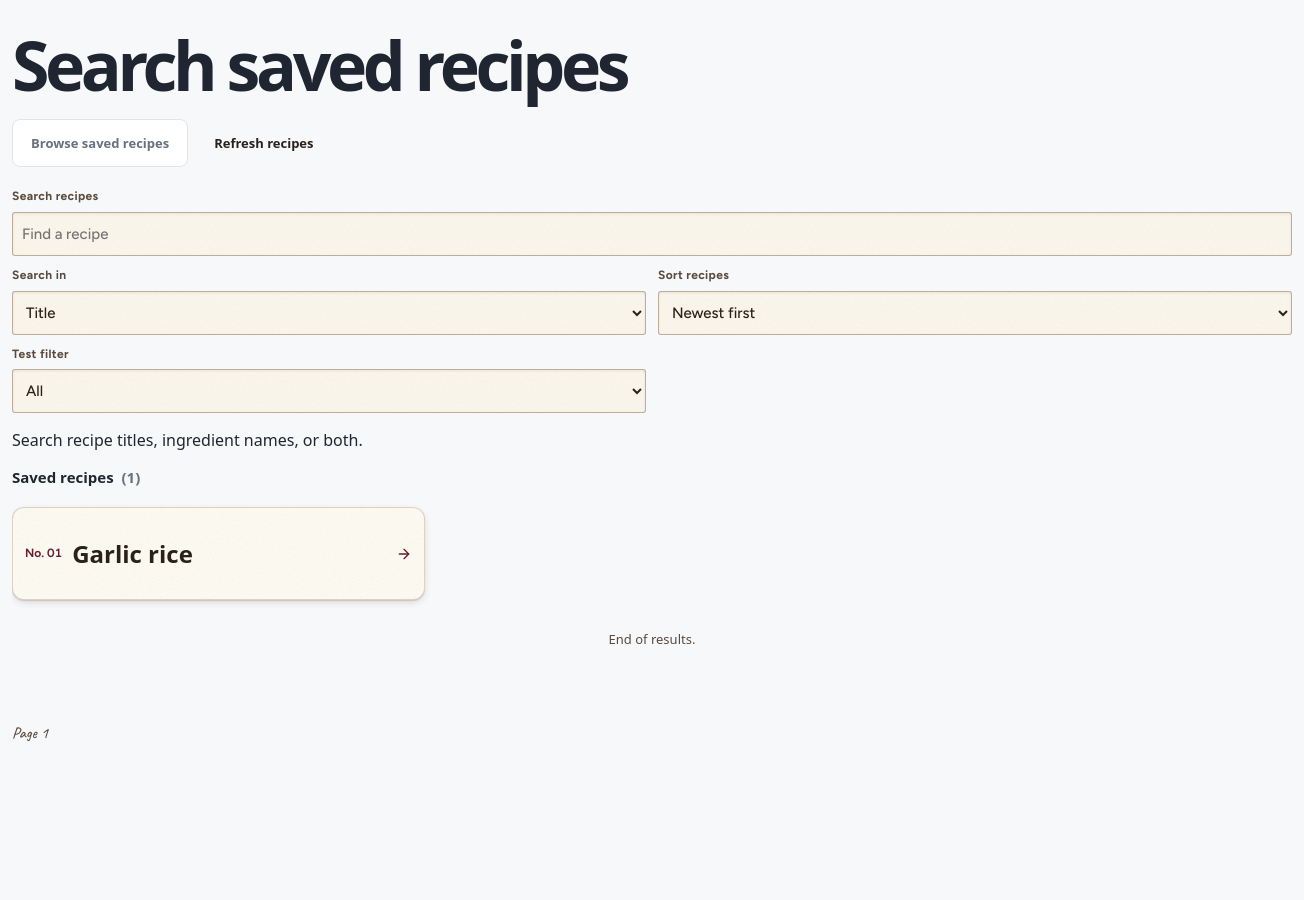
Test: debounces search, hides stale cards immediately, aborts old requests and preserves pending input
Expected: the heading "Garlic rice" is shown, 72,537 -> 193,570
In the search field labelled "Search recipes": x=652, y=234 12,212 -> 1292,256, type "sa"
Wait 200 ms
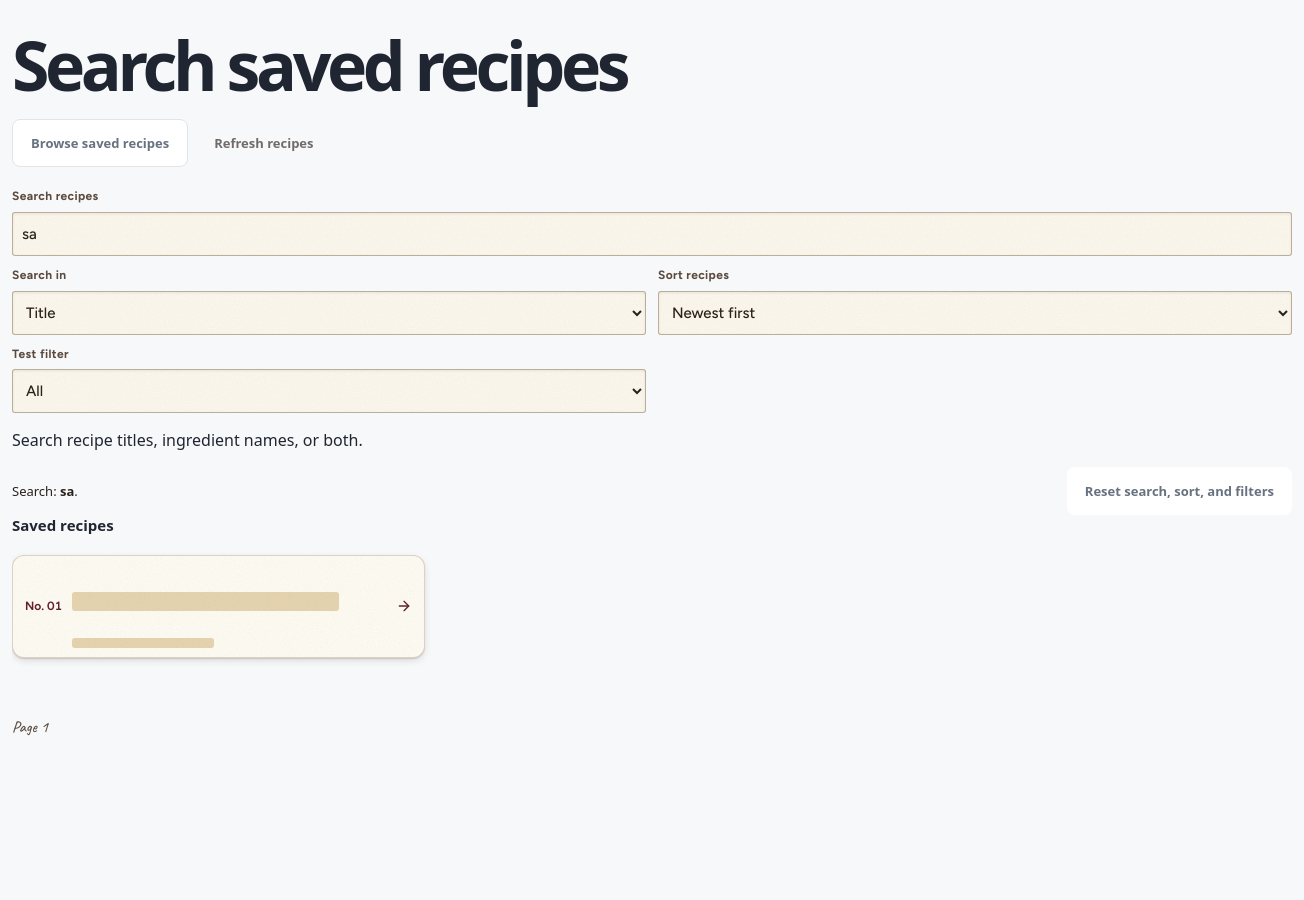
Replace the text in the search field labelled "Search recipes" with "salad": x=652, y=234 12,212 -> 1292,256
Wait 300 ms
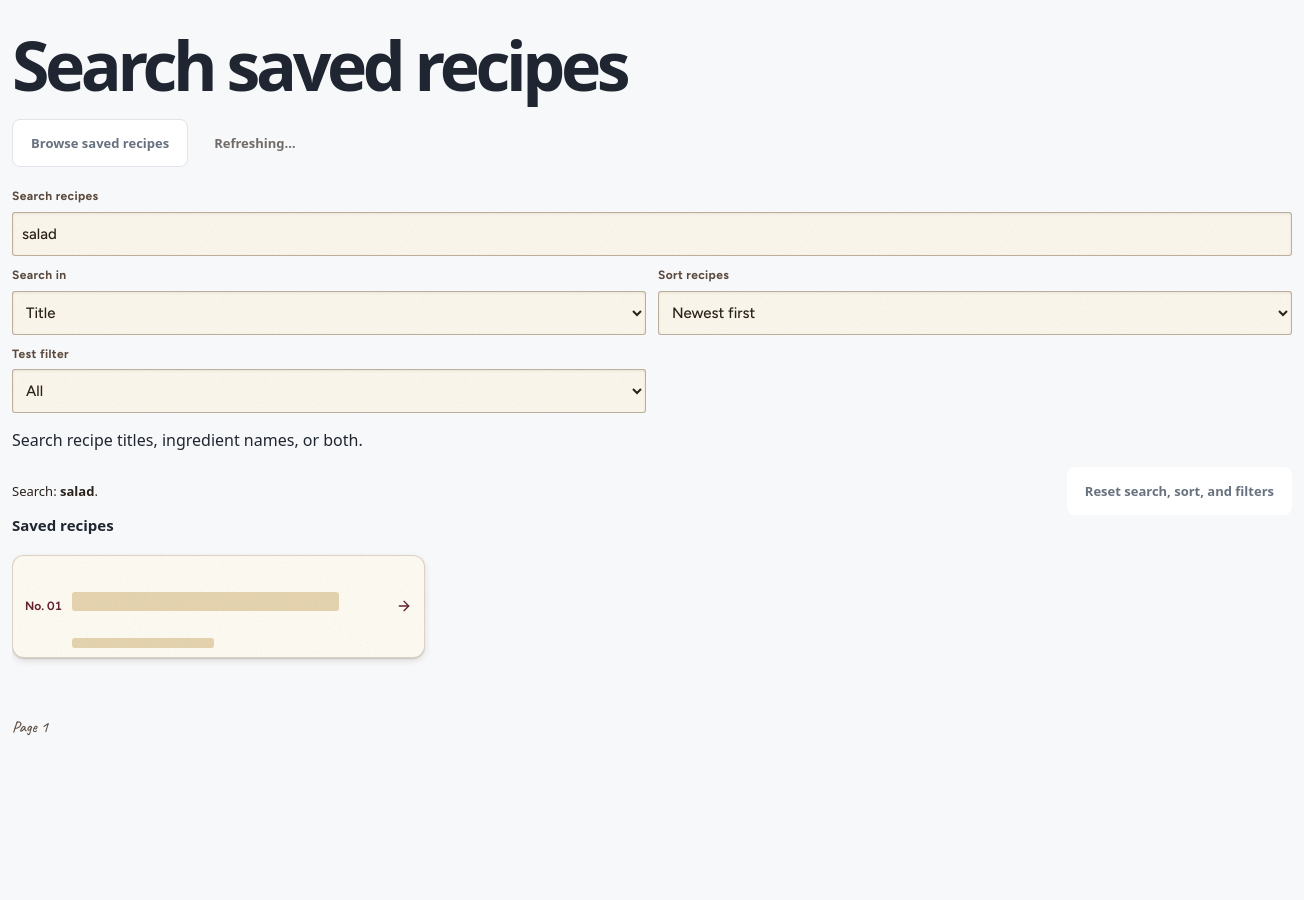
Expected: the link "Garlic rice" is not shown
Expected: the button named "Refresh recipes" is disabled, 196,119 -> 314,167
Expected: the text "salad" is shown, 60,482 -> 94,500
Replace the text in the search field labelled "Search recipes" with "lemon": x=652, y=234 12,212 -> 1292,256
Wait 330 ms
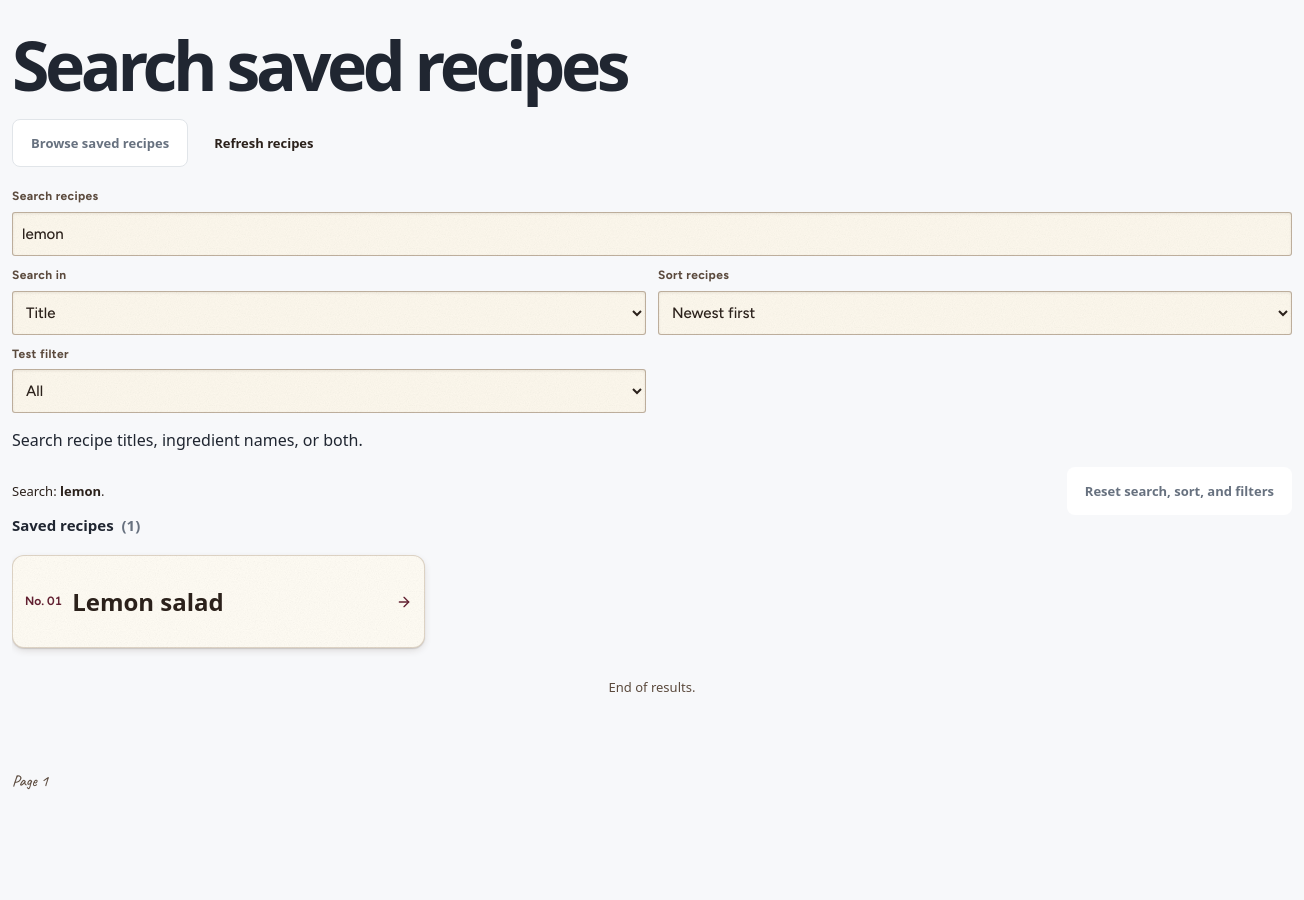
Expected: the heading "Lemon salad" is shown, 72,585 -> 224,618
